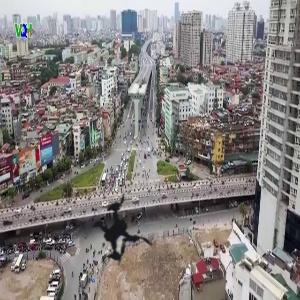drone: (48, 167, 179, 298)
